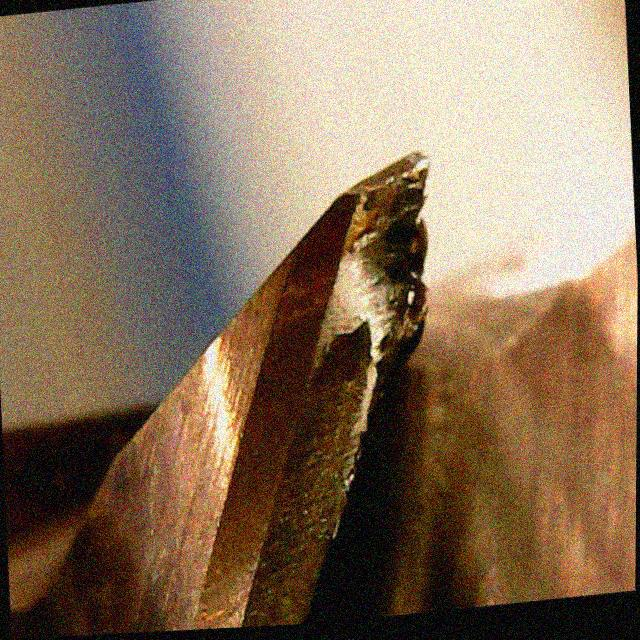Tool-wear-class-3: (248, 125, 447, 377)
